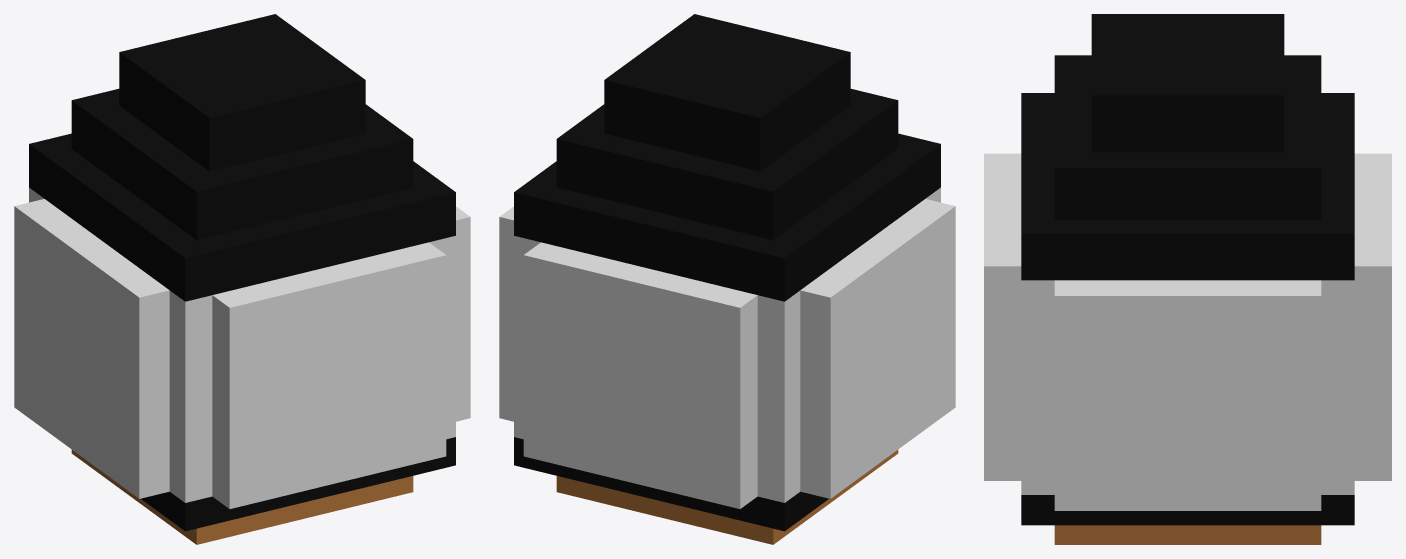
The model's file is 33.Penguin Flura.fbx.
The picture shows the model from 3 angles, left to right: view 1: azimuth 30°, elevation 25°; view 2: azimuth 150°, elevation 25°; view 3: azimuth 270°, elevation 25°; orthographic projection. The views are drawn at different scales.
Visible parts, largest first — view 1: Fluri_Flura; view 2: Fluri_Flura; view 3: Fluri_Flura.
Boxes of the visible parts, box(x1,y1,x2,y2) form: Fluri_Flura: box(14, 14, 470, 544); Fluri_Flura: box(499, 14, 955, 544); Fluri_Flura: box(984, 14, 1391, 544).
Size of the model in its own units: 2.89 by 3.39 by 2.89.
